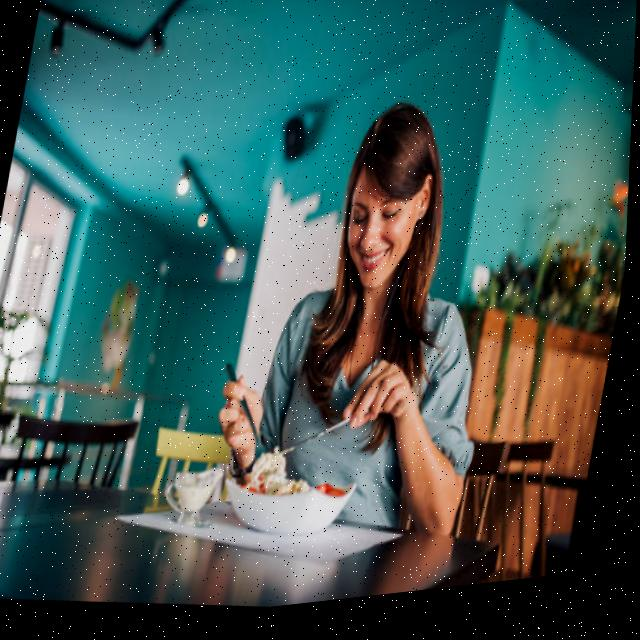eating-person: (147, 62, 542, 625)
